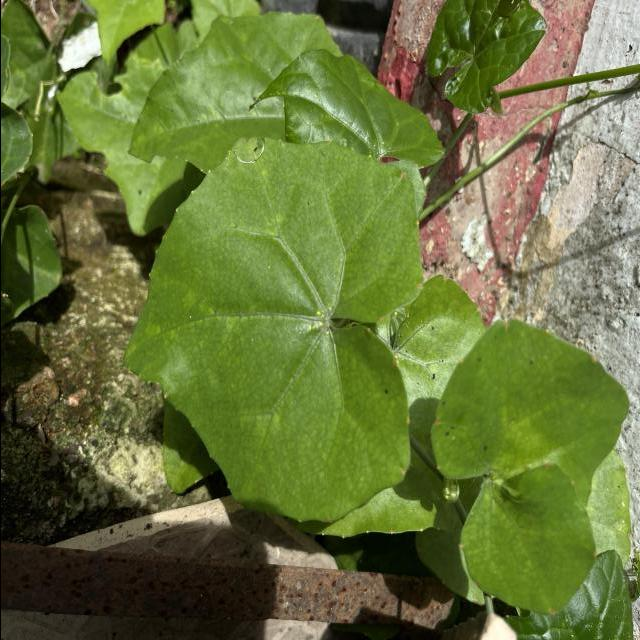Coccinia grandis: (120, 133, 427, 526)
